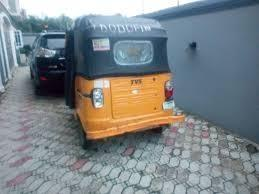keke: (68, 13, 184, 150)
